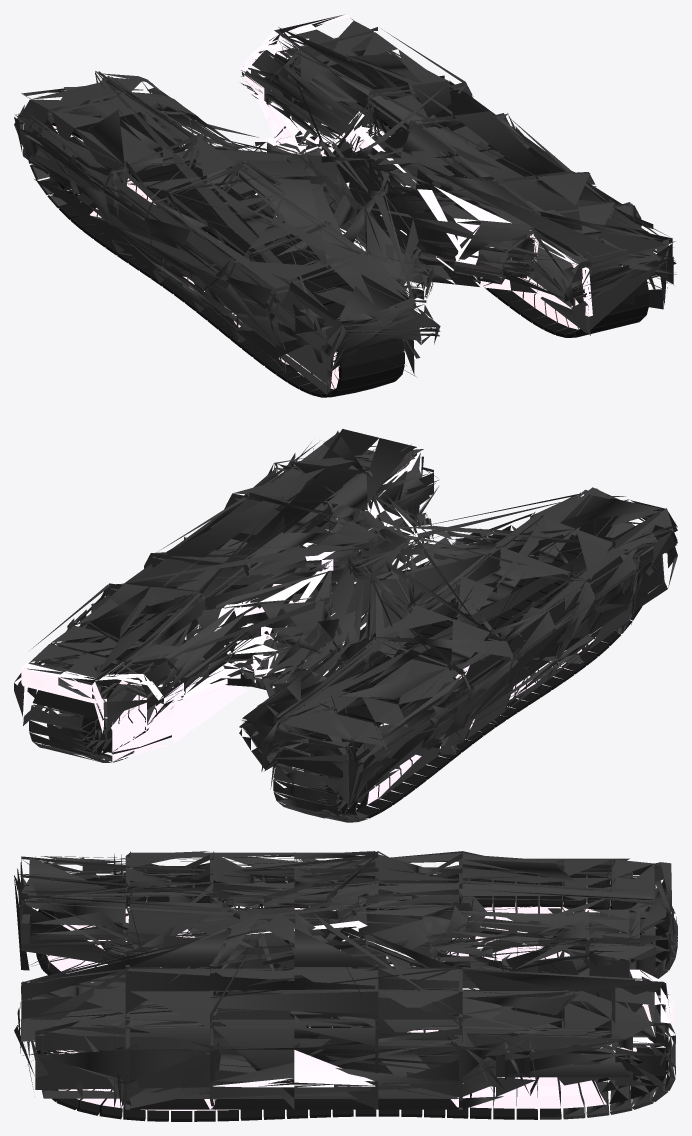
Rendered from scifi_tank_base_ter.gltf.
3 renders of one model, top to bottom at view 1: azimuth 30°, elevation 25°; view 2: azimuth 150°, elevation 25°; view 3: azimuth 270°, elevation 25°, orthographic.
Visible parts, largest first — view 1: Tank Armature, Cube.001, Cube.000; view 2: Tank Armature, Cube.001, Cube.000; view 3: Tank Armature, Cube.000, Cube.001.
Boxes of the visible parts, bbox=[...] form: Tank Armature: bbox=[14, 14, 676, 394]; Cube.001: bbox=[28, 114, 404, 397]; Cube.000: bbox=[285, 49, 649, 337]; Tank Armature: bbox=[14, 429, 677, 805]; Cube.001: bbox=[273, 535, 647, 822]; Cube.000: bbox=[28, 509, 367, 762]; Tank Armature: bbox=[14, 851, 673, 1109]; Cube.000: bbox=[36, 991, 675, 1121]; Cube.001: bbox=[36, 871, 677, 985].
Bounding box in the file's own units: 4.04 × 1.36 × 6.08.
